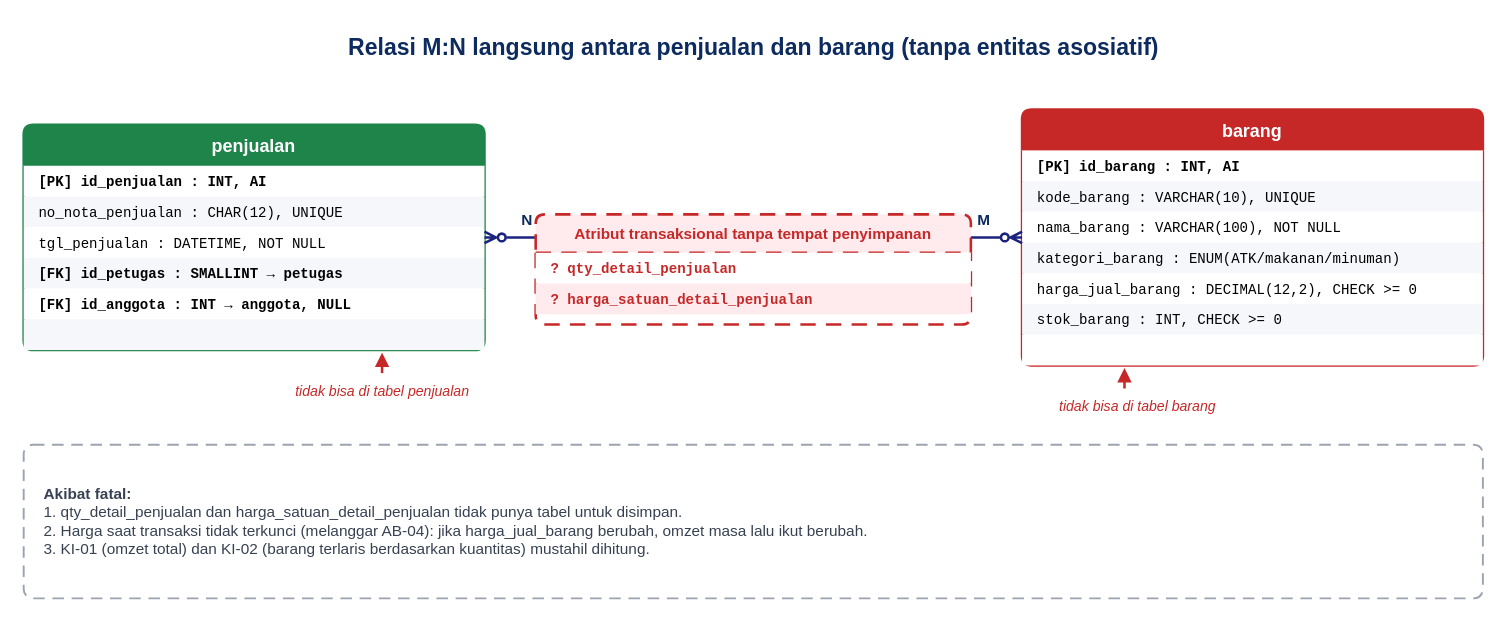
This 1505x621 diagram has some shape labels left out. Here are the shapes that lost their labels. From the top down, the centre of each, then its label:
the point at 253,334: bayar_penjualan : DECIMAL(12,2), NOT NULL
the point at 1251,349: stok_min_barang : INT, DEF 5
